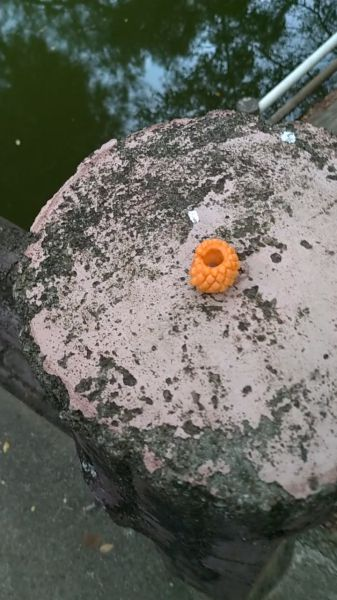eggs: (186, 234, 242, 292)
